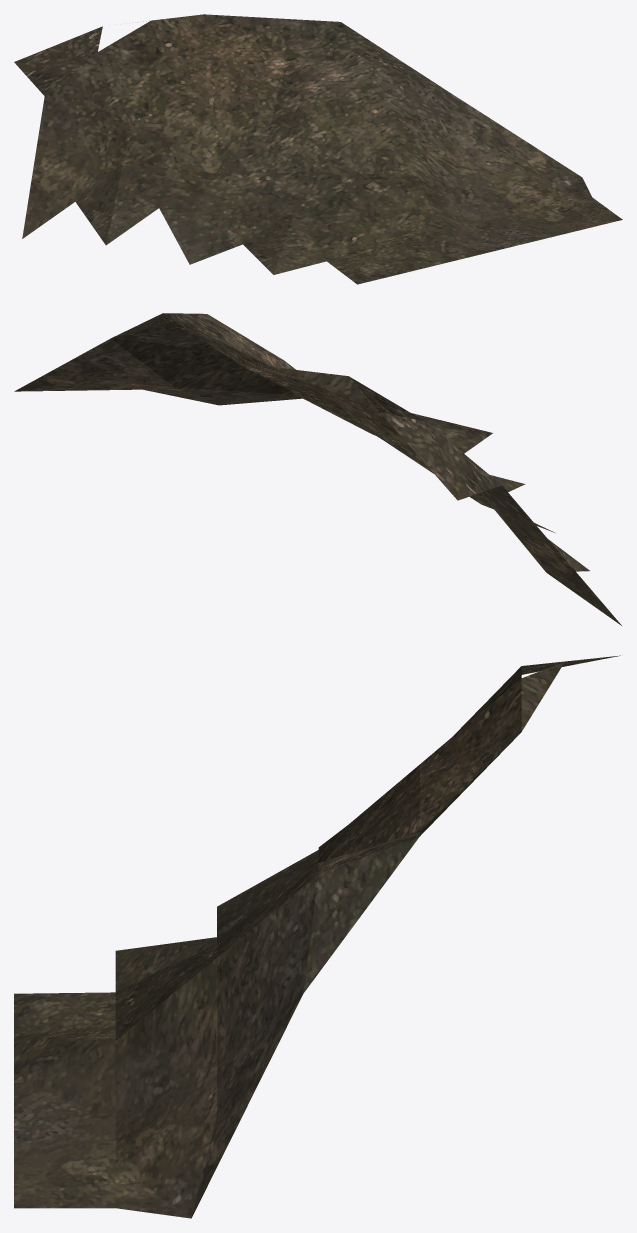
File: blend_weeds11.fbx
3 renders of one model, top to bottom at view 1: azimuth 30°, elevation 25°; view 2: azimuth 150°, elevation 25°; view 3: azimuth 270°, elevation 25°, orthographic. The views are drawn at different scales.
Parts seen in each view (by area): view 1: obj0.032; view 2: obj0.032; view 3: obj0.032.
Boxes of the visible parts, <box> form: obj0.032: <box>14,14,622,284</box>; obj0.032: <box>14,313,621,625</box>; obj0.032: <box>14,655,620,1218</box>.
Bounding box in the file's own units: 23.11 × 7.4 × 15.
